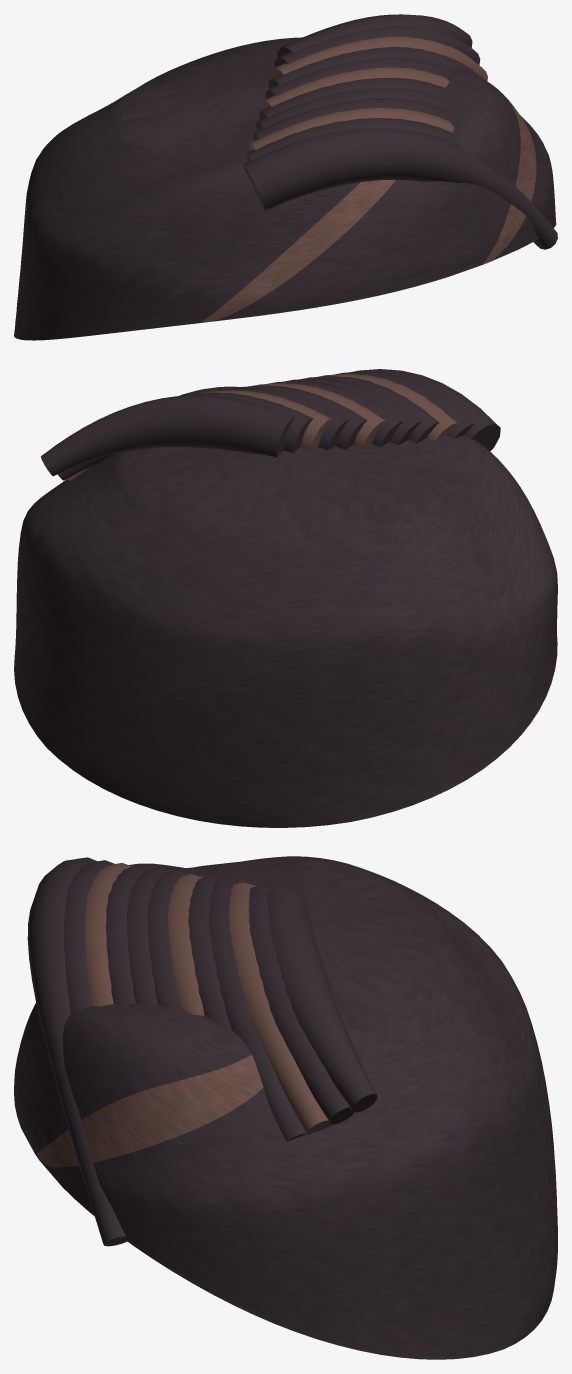
Rendered from hair_midnight_dress_part.gltf.
3 views of the same model, one above another, from view 1: azimuth 30°, elevation 25°; view 2: azimuth 150°, elevation 25°; view 3: azimuth 270°, elevation 25° (orthographic). The views are drawn at different scales.
Parts seen in each view (by area): view 1: Midnight Dress Part; view 2: Midnight Dress Part; view 3: Midnight Dress Part.
Boxes of the visible parts, x1,y1,x2,y2 form: Midnight Dress Part: [14, 14, 557, 340]; Midnight Dress Part: [14, 369, 557, 827]; Midnight Dress Part: [14, 856, 557, 1359].
Bounding box in the file's own units: 0.4547 × 0.281 × 0.3499.
Materials: 2 (2 with a texture image).
